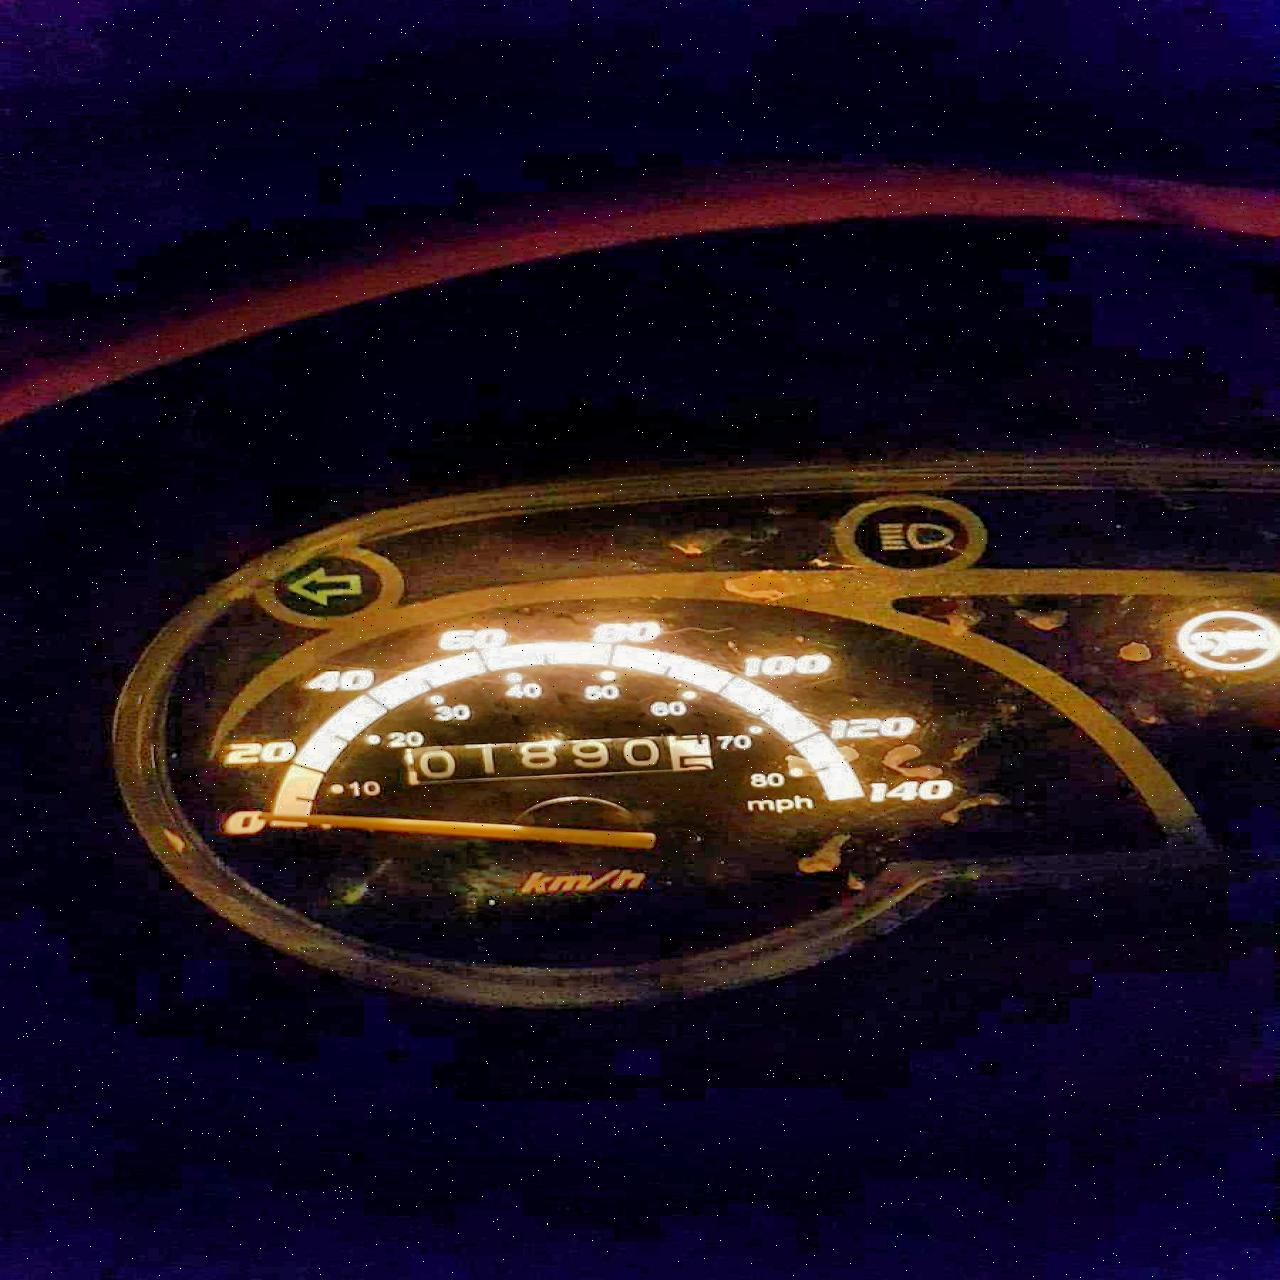0: (413, 748, 459, 779), (621, 735, 660, 767), (734, 733, 751, 753), (406, 729, 424, 745)
1: (474, 740, 497, 775)
2: (386, 730, 406, 747)
5: (672, 751, 715, 777)
7: (714, 734, 733, 749)
8: (519, 740, 558, 769), (747, 772, 765, 788)
9: (568, 738, 613, 769)
odometer: (380, 720, 761, 798)
